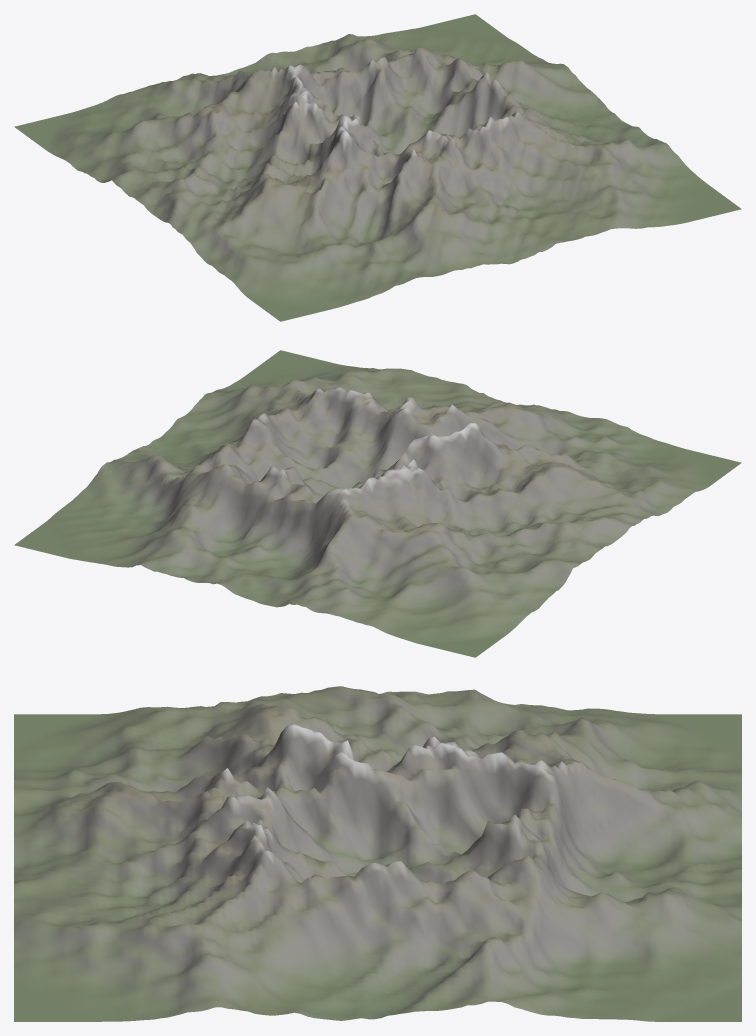
Rendered from terrain-tile.glb.
3 renders of one model, top to bottom at view 1: azimuth 30°, elevation 25°; view 2: azimuth 150°, elevation 25°; view 3: azimuth 270°, elevation 25°, orthographic. The views are drawn at different scales.
Visible parts, largest first — view 1: geometry_0; view 2: geometry_0; view 3: geometry_0.
Part boxes in pixels (x1=…): geometry_0: x1=14, y1=14, x2=741, y2=321; geometry_0: x1=14, y1=350, x2=741, y2=657; geometry_0: x1=14, y1=686, x2=741, y2=1021.
Size of the model in its own units: 4 by 0.6124 by 4.
